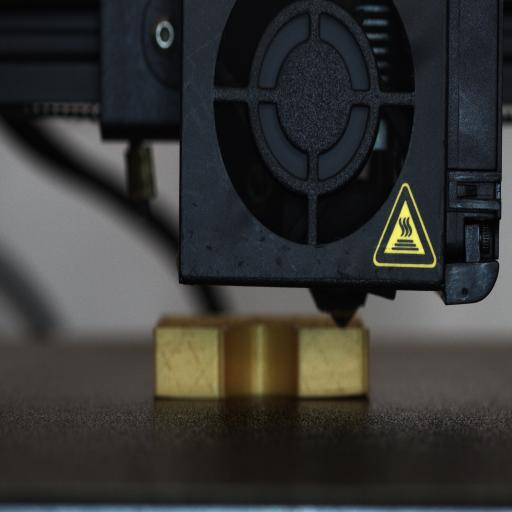warp: (321, 383, 371, 402)
